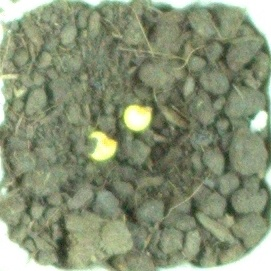chilli seed: (82, 129, 120, 165), (122, 103, 154, 133)
